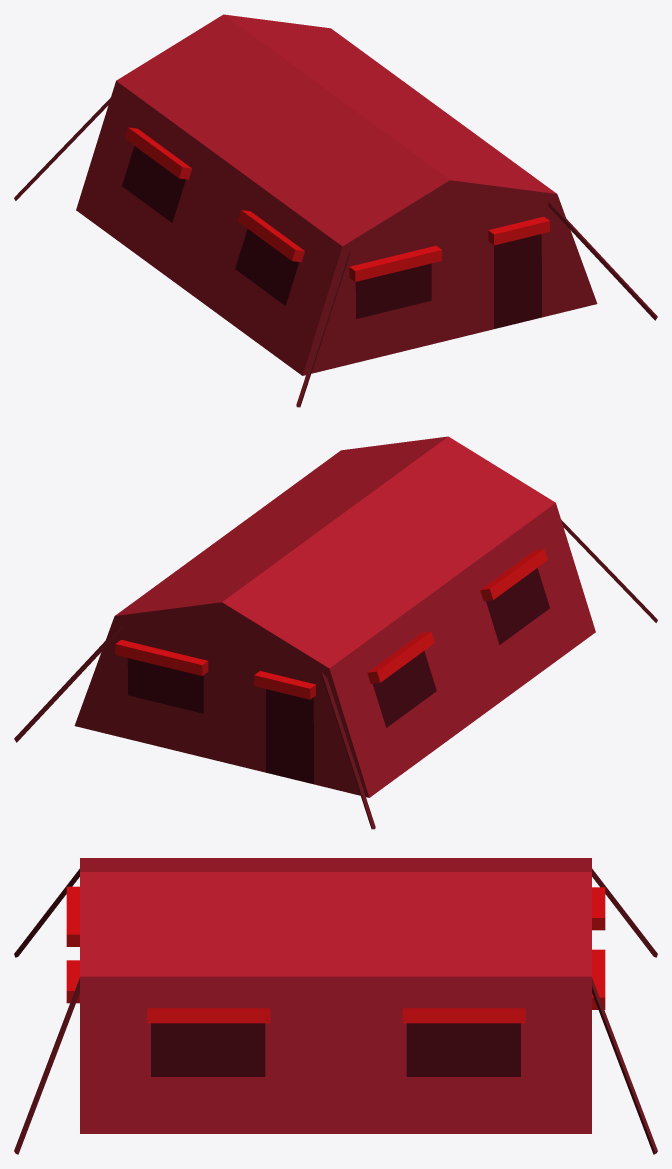
The model's file is tent_01.fbx.
The picture shows the model from 3 angles, top to bottom: view 1: azimuth 30°, elevation 25°; view 2: azimuth 150°, elevation 25°; view 3: azimuth 270°, elevation 25°; orthographic projection. The views are drawn at different scales.
Visible parts, largest first — view 1: tent_01; view 2: tent_01; view 3: tent_01.
Boxes of the visible parts, x1,y1,x2,y2 form: tent_01: (14,14,657,407); tent_01: (14,436,657,829); tent_01: (14,858,657,1154).
Size of the model in its own units: 484 by 208 by 661.
